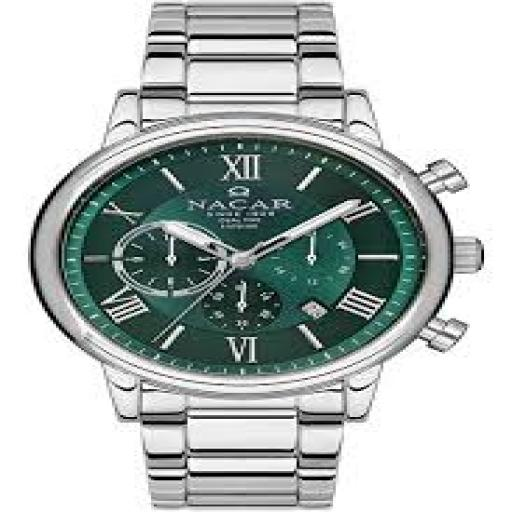KolSaati: (3, 3, 504, 510)
